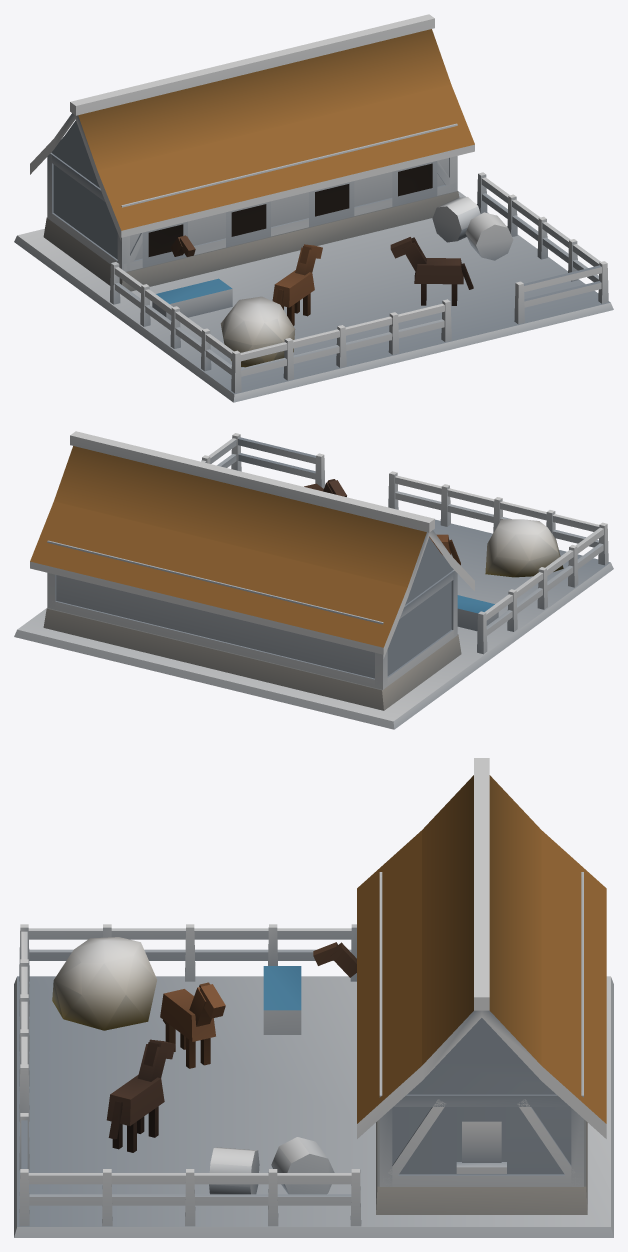
Rendered from stable_t2.glb.
3 views of the same model, one above another, from view 1: azimuth 30°, elevation 25°; view 2: azimuth 150°, elevation 25°; view 3: azimuth 270°, elevation 25° (orthographic). The views are drawn at different scales.
Parts seen in each view (by area): view 1: stable_t2; view 2: stable_t2; view 3: stable_t2.
Part boxes in pixels (x1=…): stable_t2: x1=14, y1=14, x2=613, y2=402; stable_t2: x1=14, y1=431, x2=613, y2=729; stable_t2: x1=14, y1=758, x2=613, y2=1237.
Size of the model in its own units: 2.86 by 1.23 by 2.86.
